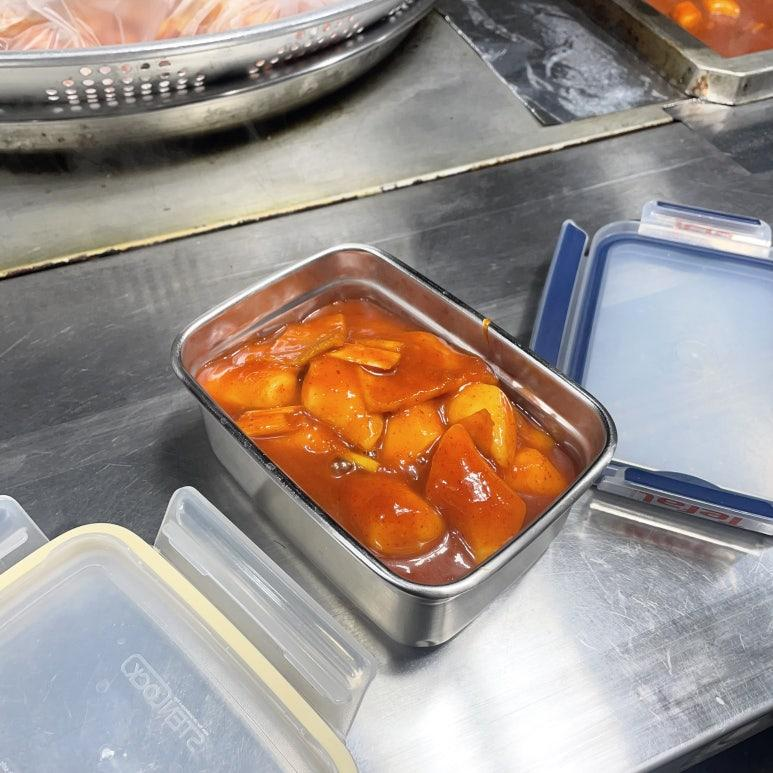Lunch Box: (173, 203, 772, 645)
